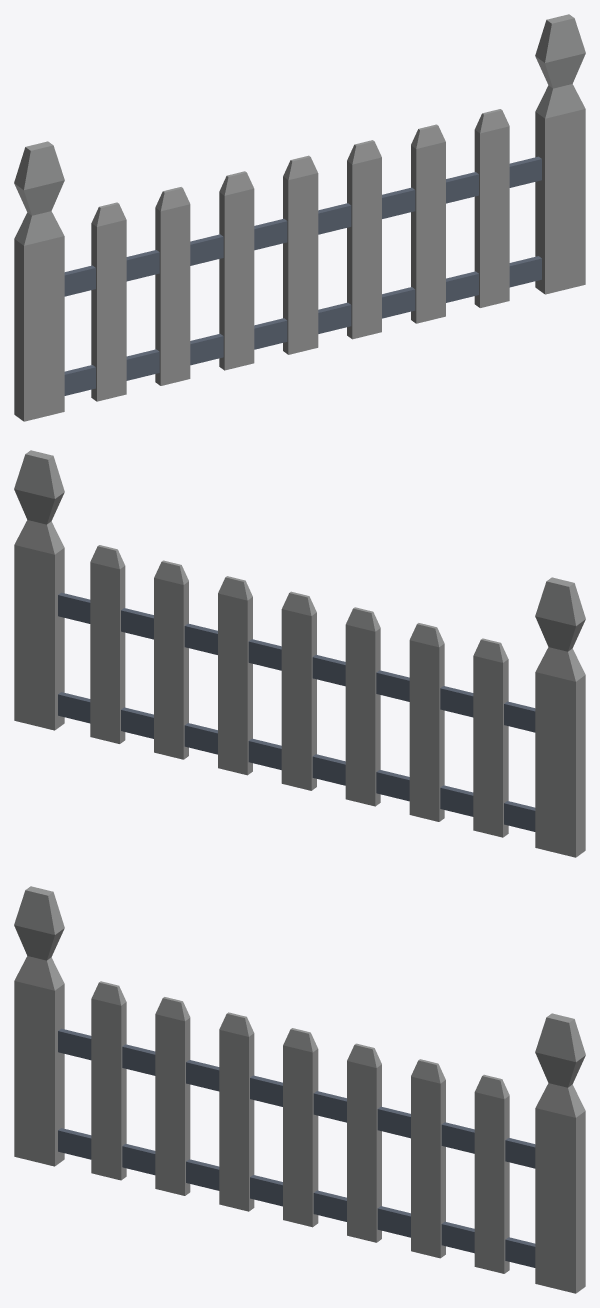
Rendered from Fence 1.fbx.
3 renders of one model, top to bottom at view 1: azimuth 30°, elevation 25°; view 2: azimuth 150°, elevation 25°; view 3: azimuth 330°, elevation 25°, orthographic.
Parts seen in each view (by area): view 1: Fence_01; view 2: Fence_01; view 3: Fence_01.
Boxes of the visible parts, x1,y1,x2,y2 form: Fence_01: (14, 14, 585, 421); Fence_01: (14, 450, 585, 857); Fence_01: (14, 886, 585, 1293).
Bounding box in the file's own units: 178 × 80.61 × 5.4.
